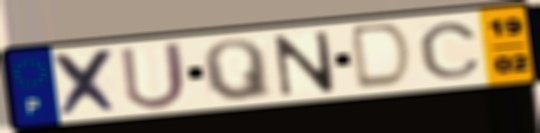C: (415, 20, 485, 81)
D: (351, 21, 417, 92)
N: (272, 29, 338, 98)
Q: (200, 37, 276, 103)
U: (117, 39, 190, 112)
X: (50, 46, 124, 120)
